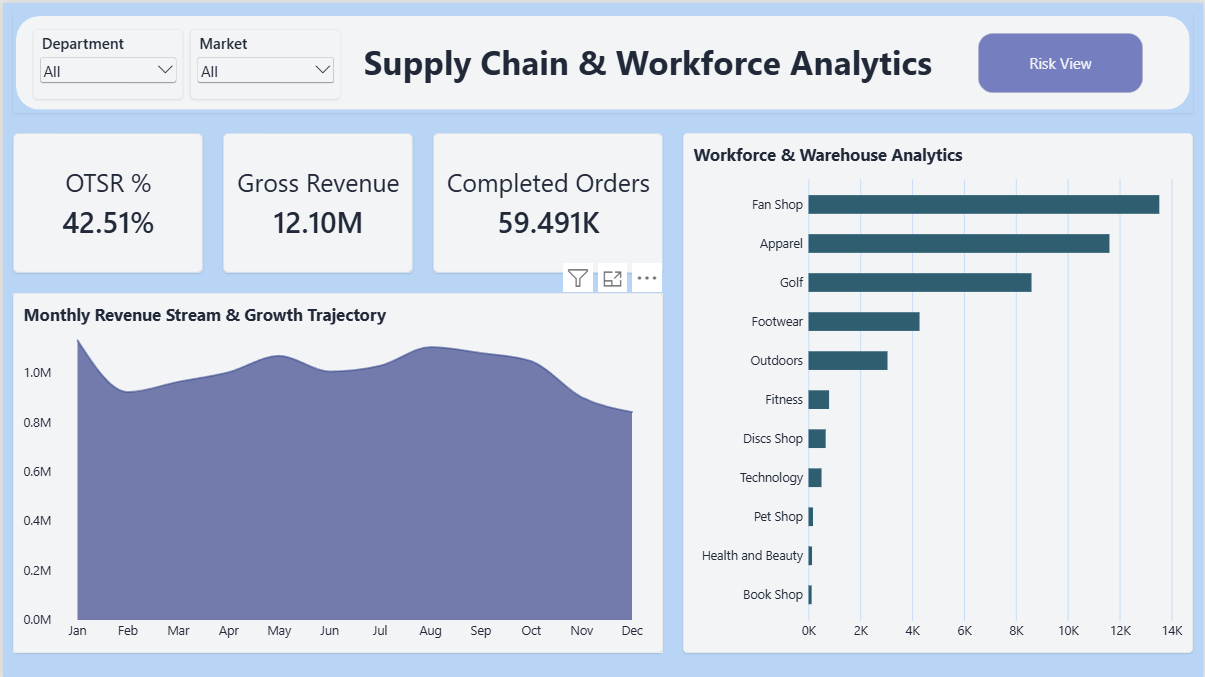

This screenshot's page, from the dashboard's own definition file:
{"tool":"powerbi","page":{"name":"Page 1","canvas":[1920,1080],"ordinal":0},"visuals":[{"type":"shape","box":[16,16,1888,160],"z":0},{"type":"slicer","title":"Workforce & Warehouse Analytics","fields":{"Values":["raw_data.Department Name"]},"box":[48,42.7,240,112],"z":1000},{"type":"cardVisual","fields":{"Data":["raw_data.Net_Labor_Efficiency"]},"box":[16,208,304,224],"z":2000},{"type":"textbox","box":[552,58.7,960,80],"z":3000},{"type":"cardVisual","fields":{"Data":["Sum(raw_data.Sales)"]},"box":[352,208,304,224],"z":4000},{"type":"slicer","fields":{"Values":["raw_data.Market"]},"box":[300,42.7,240,112],"z":5000},{"type":"cardVisual","fields":{"Data":["CountNonNull(raw_data.Order Id)"]},"box":[688,208,368,224],"z":6000},{"type":"areaChart","title":"Monthly Revenue Stream & Growth Trajectory","fields":{"Category":["raw_data.MONTH_"],"Y":["Sum(raw_data.Sales)"]},"box":[16,464,1040,576],"z":7000},{"type":"clusteredBarChart","title":"Workforce & Warehouse Analytics","fields":{"Category":["raw_data.Department Name"],"Y":["Count(raw_data.Order Id)"]},"box":[1088,208,816,832],"z":8000},{"type":"bookmarkNavigator","box":[1560,48,264,96],"z":9000}]}

Visuals, with their boxes in screenshot pixels (x1, y1, x2, y2), scaled from the page's 1920x1080 canvas onto the 1205x677 screenshot:
shape: bbox=(10, 10, 1195, 110)
"Workforce & Warehouse Analytics" slicer: bbox=(30, 27, 181, 97)
cardVisual - raw_data.Net_Labor_Efficiency: bbox=(10, 130, 201, 271)
textbox: bbox=(346, 37, 949, 87)
cardVisual - Sum(raw_data.Sales): bbox=(221, 130, 412, 271)
slicer - raw_data.Market: bbox=(188, 27, 339, 97)
cardVisual - CountNonNull(raw_data.Order Id): bbox=(432, 130, 663, 271)
"Monthly Revenue Stream & Growth Trajectory" areaChart: bbox=(10, 291, 663, 652)
"Workforce & Warehouse Analytics" clusteredBarChart: bbox=(683, 130, 1195, 652)
bookmarkNavigator: bbox=(979, 30, 1145, 90)
